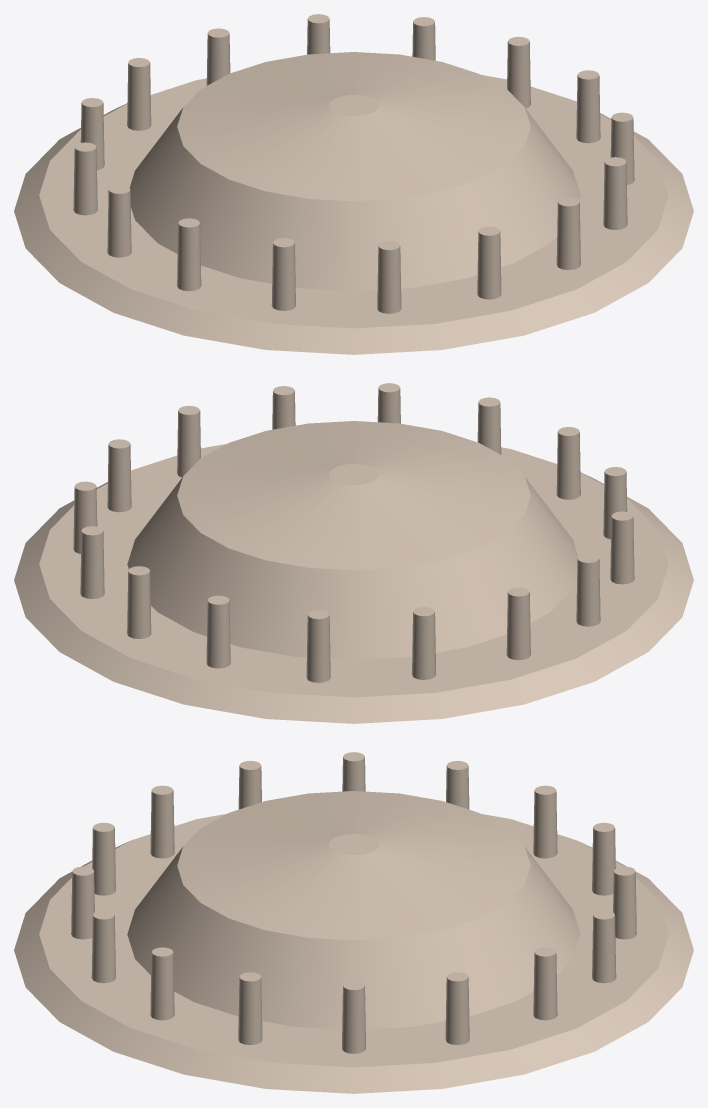
The model's file is meta_sudans_sb_archi.glb.
3 views of the same model, one above another, from view 1: azimuth 30°, elevation 25°; view 2: azimuth 150°, elevation 25°; view 3: azimuth 270°, elevation 25° (orthographic).
Visible parts, largest first — view 1: Tectonic_rotunda; view 2: Tectonic_rotunda; view 3: Tectonic_rotunda.
Part boxes in pixels (x1,y1,x2,y2): Tectonic_rotunda: [14, 14, 693, 354]; Tectonic_rotunda: [14, 383, 693, 723]; Tectonic_rotunda: [14, 752, 693, 1093].
Bounding box in the file's own units: 206 × 35.35 × 206.
